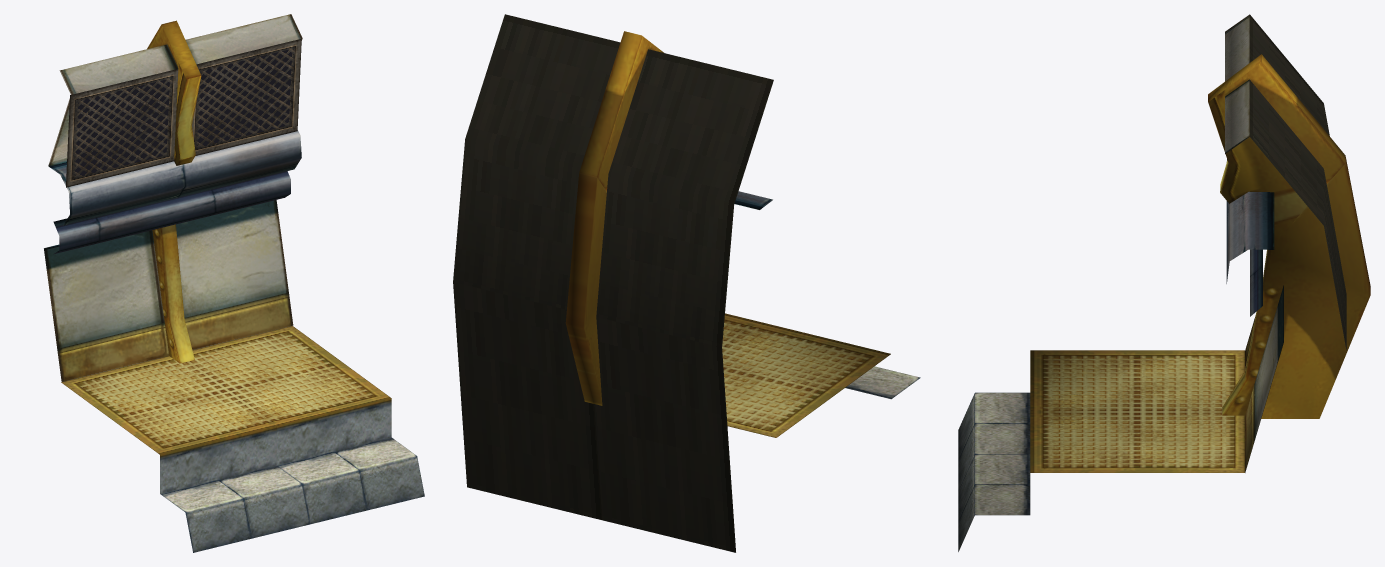
Rendered from a_tunnelwall05.glb.
3 renders of one model, left to right at view 1: azimuth 30°, elevation 25°; view 2: azimuth 150°, elevation 25°; view 3: azimuth 270°, elevation 25°, orthographic. The views are drawn at different scales.
Parts seen in each view (by area): view 1: a_tunnelwall05; view 2: a_tunnelwall05; view 3: a_tunnelwall05.
Part boxes in pixels (x1,y1,x2,y2): a_tunnelwall05: (44, 14, 424, 552); a_tunnelwall05: (453, 14, 920, 552); a_tunnelwall05: (958, 14, 1370, 551).
Bounding box in the file's own units: 2.01 × 3.3 × 2.84.
Materials: 6 (6 with a texture image).
